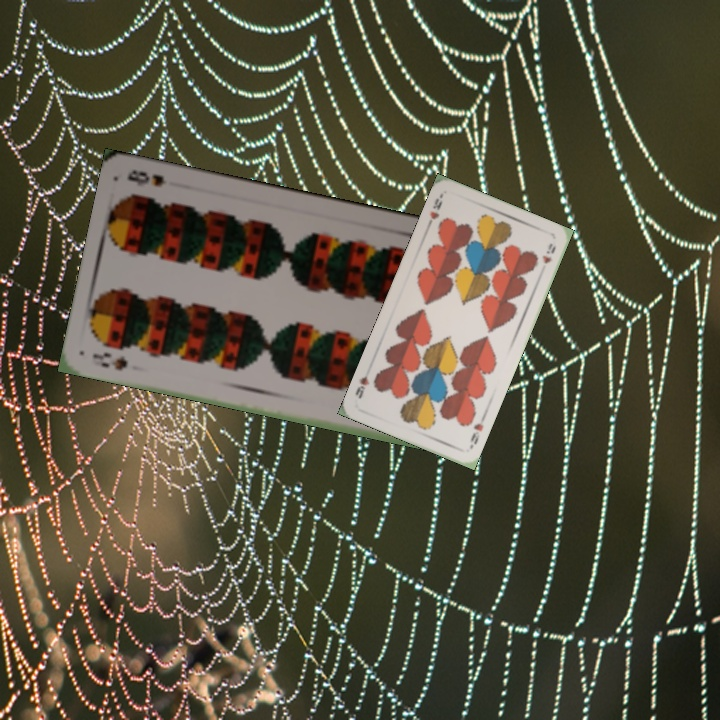H9: (423, 194, 445, 230), (466, 413, 488, 447)
S8: (89, 348, 130, 373)
